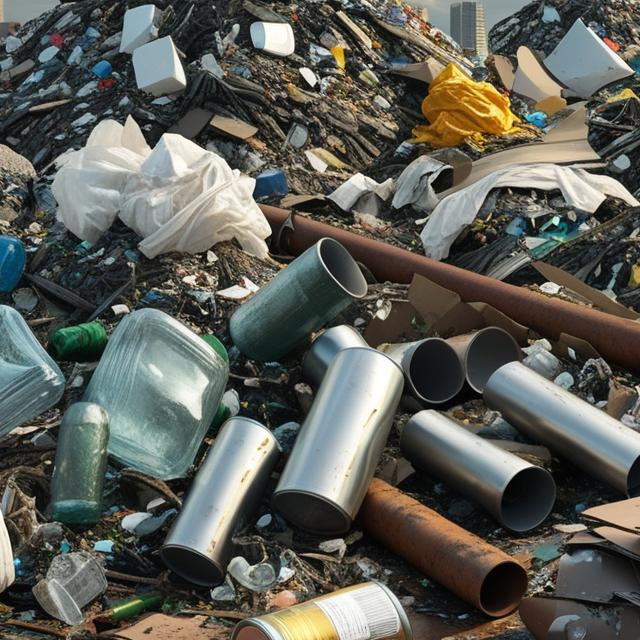metal: (225, 584, 418, 640)
plastic: (133, 137, 267, 249)
